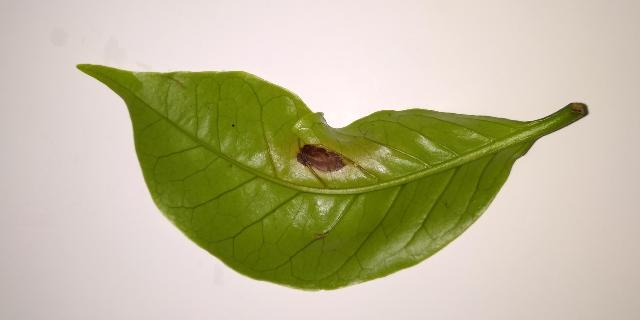rust: (297, 144, 345, 171)
